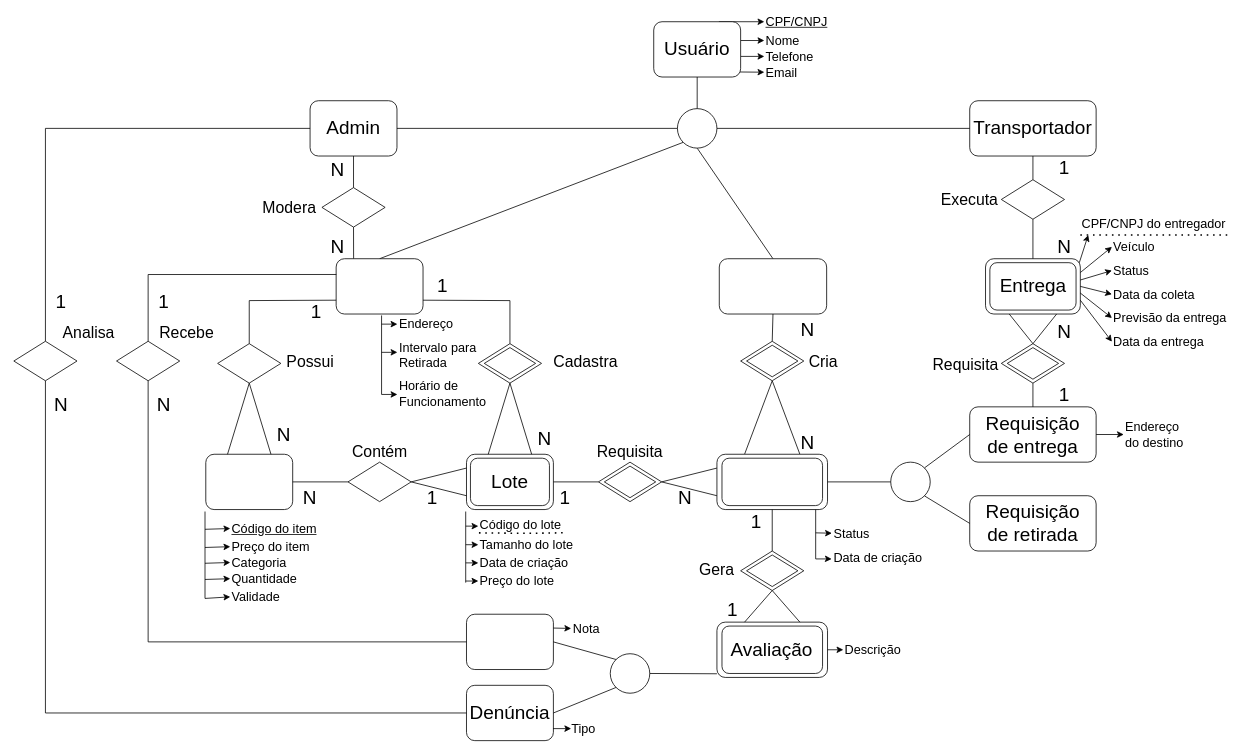
This 1246x754 diagram has some shape labels left out. The shapes that lost their labels are listed below. From the top down, each one's centre as x and y in pixels, then its label:
At point (379, 286): "Doador".
At point (773, 286): "Beneficiário".
At point (249, 481): "Item".
At point (772, 481): "Requisição".
At point (509, 641): "Feedback".
